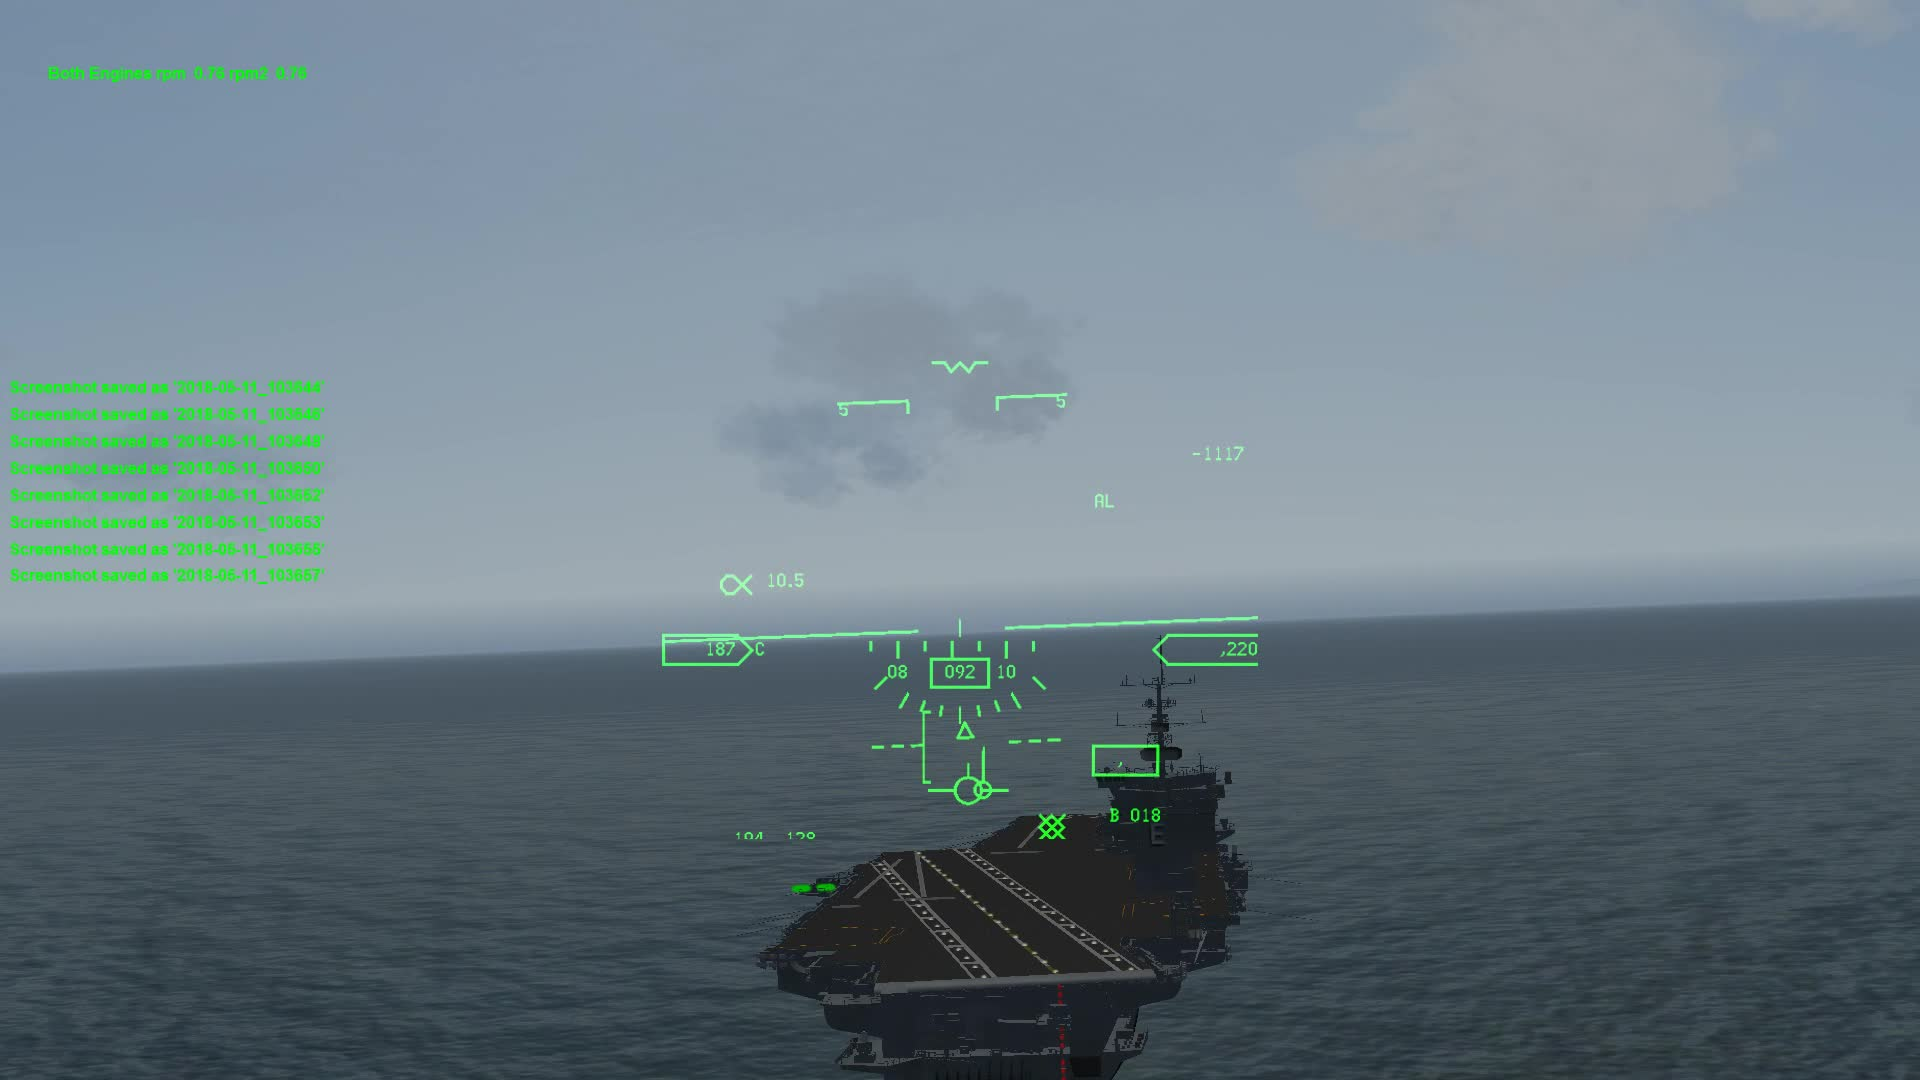speed vector: (934, 758, 1011, 808)
